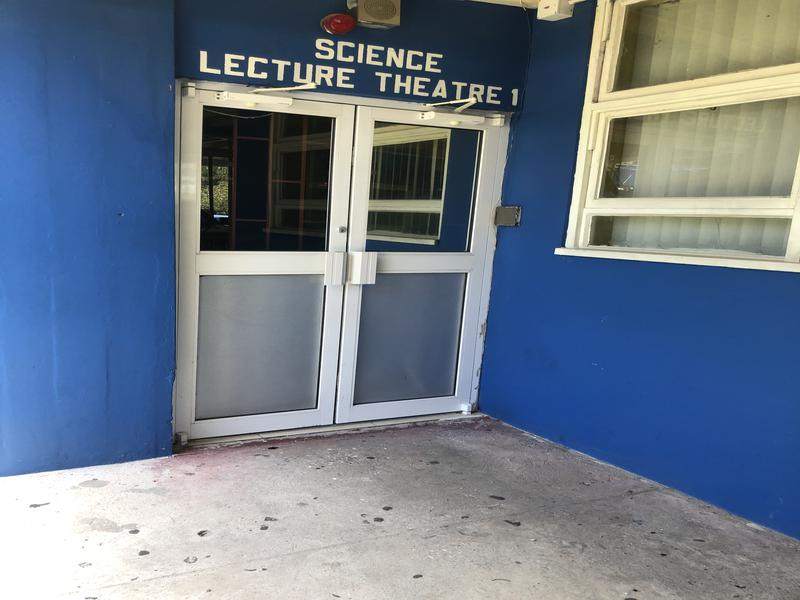18.0051836_-76.7497262_pclt1: (155, 16, 531, 433)
